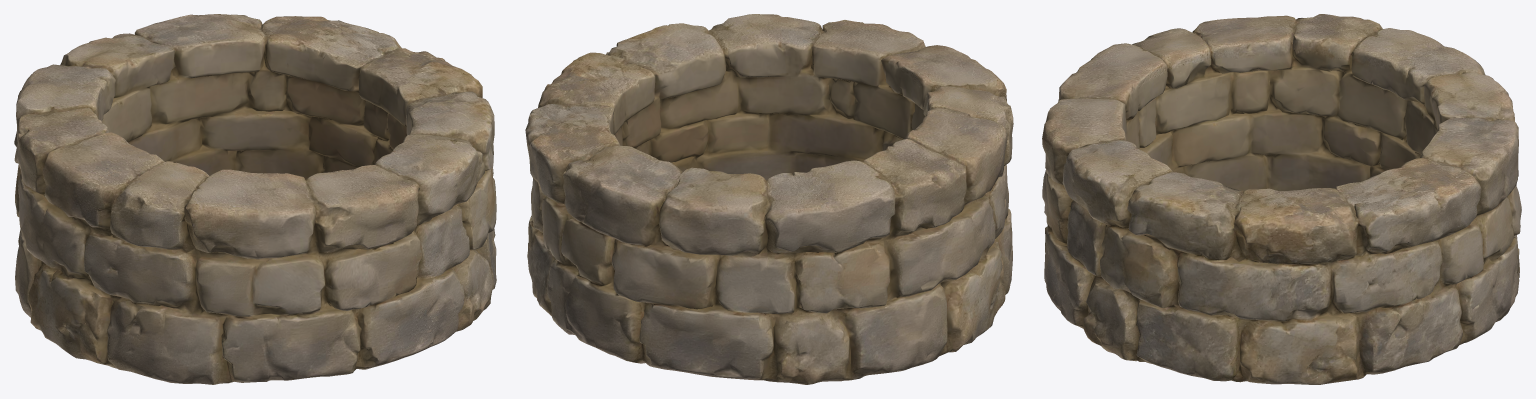
3 views of the same model, side by side, from view 1: azimuth 30°, elevation 25°; view 2: azimuth 150°, elevation 25°; view 3: azimuth 270°, elevation 25° (orthographic).
Parts seen in each view (by area): view 1: tripo_node_1bcc186d-a020-4e68-9ba5-ea840d45af94; view 2: tripo_node_1bcc186d-a020-4e68-9ba5-ea840d45af94; view 3: tripo_node_1bcc186d-a020-4e68-9ba5-ea840d45af94.
Part boxes in pixels (<box>): tripo_node_1bcc186d-a020-4e68-9ba5-ea840d45af94: <box>14,14,496,384</box>; tripo_node_1bcc186d-a020-4e68-9ba5-ea840d45af94: <box>525,14,1013,384</box>; tripo_node_1bcc186d-a020-4e68-9ba5-ea840d45af94: <box>1042,14,1521,384</box>.
Size of the model in its own units: 0.9975 by 0.4546 by 1.
1 material, 1 textured.
